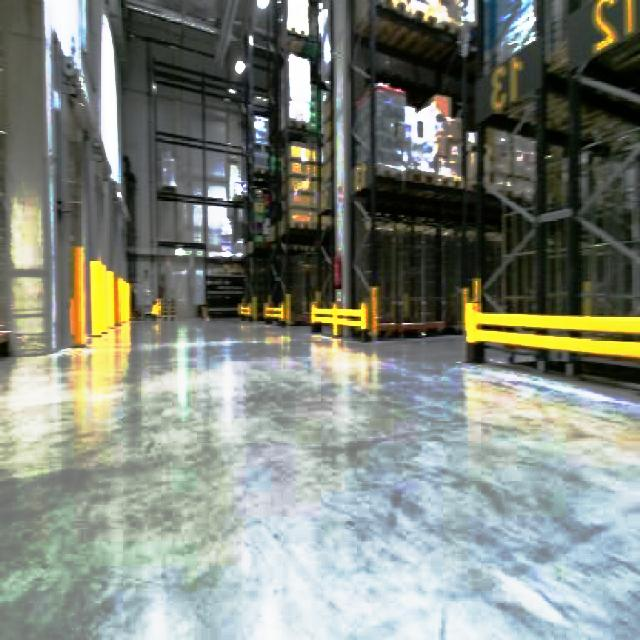ground: (0, 312, 638, 638)
pallet: (458, 0, 638, 408), (455, 272, 638, 608), (457, 274, 638, 411), (235, 285, 446, 340), (367, 0, 455, 73), (308, 288, 374, 340), (203, 260, 246, 317), (262, 292, 292, 326), (0, 291, 11, 360), (235, 294, 258, 320)
